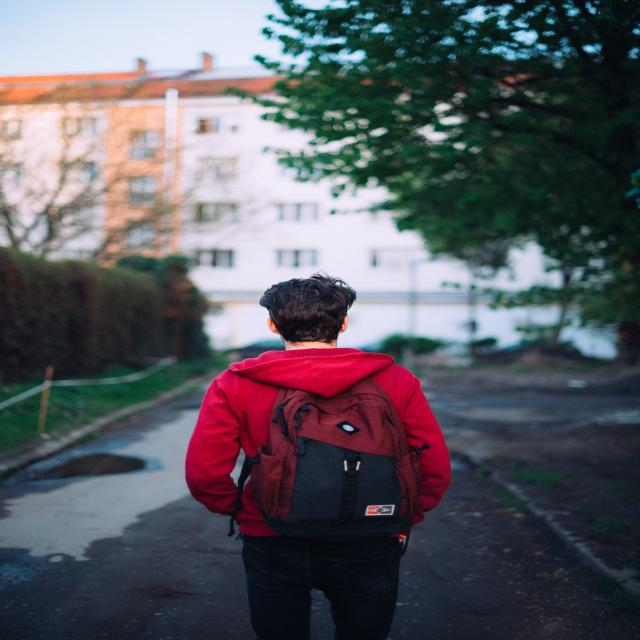backpack: (238, 372, 415, 545)
